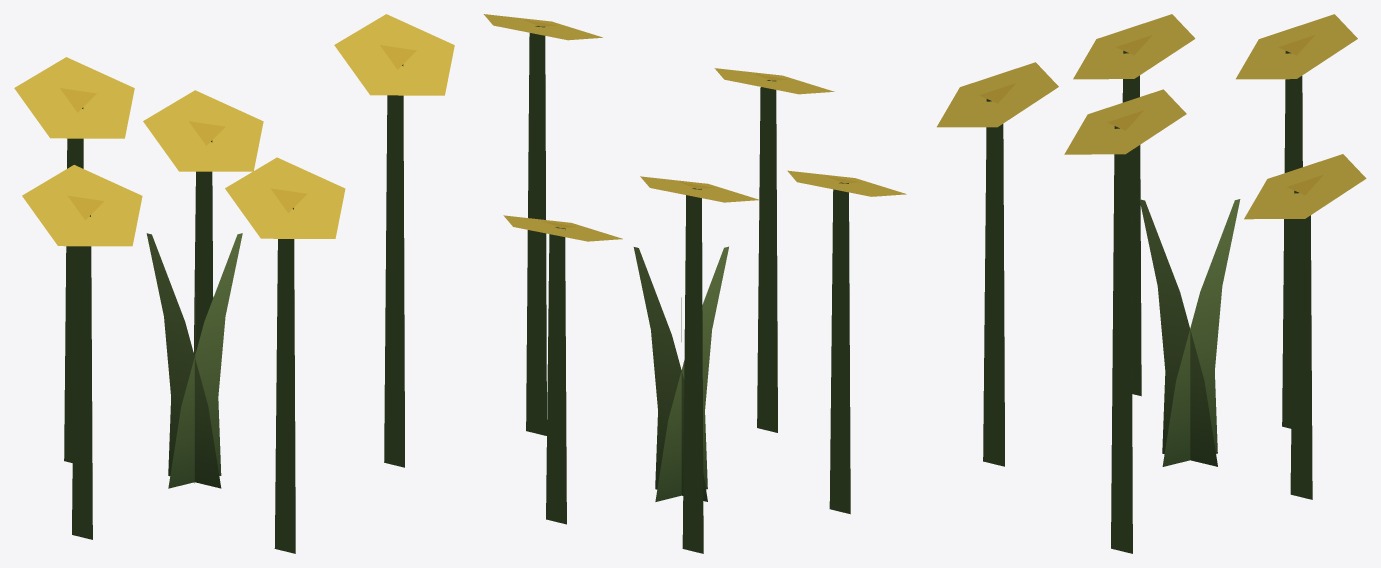
Rendered from flower_f2d24a.glb.
3 renders of one model, left to right at view 1: azimuth 30°, elevation 25°; view 2: azimuth 150°, elevation 25°; view 3: azimuth 270°, elevation 25°, orthographic. The views are drawn at different scales.
Parts seen in each view (by area): view 1: part_0; view 2: part_0; view 3: part_0.
Part boxes in pixels (x1,y1,x2,y2): part_0: (14, 14, 454, 553); part_0: (483, 14, 906, 553); part_0: (937, 14, 1366, 553).
Bounding box in the file's own units: 0.543 × 0.5344 × 0.4697.
